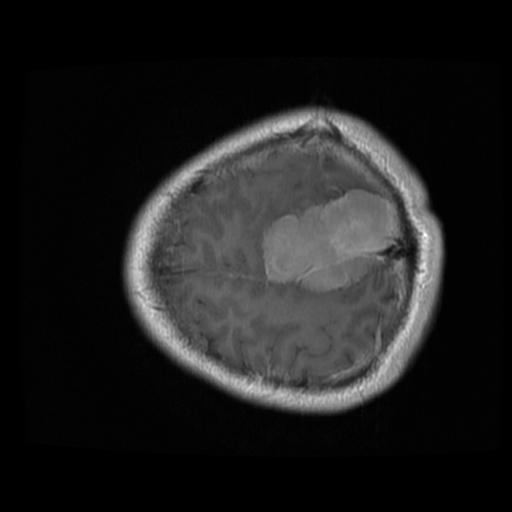meningioma: (261, 188, 396, 293)
